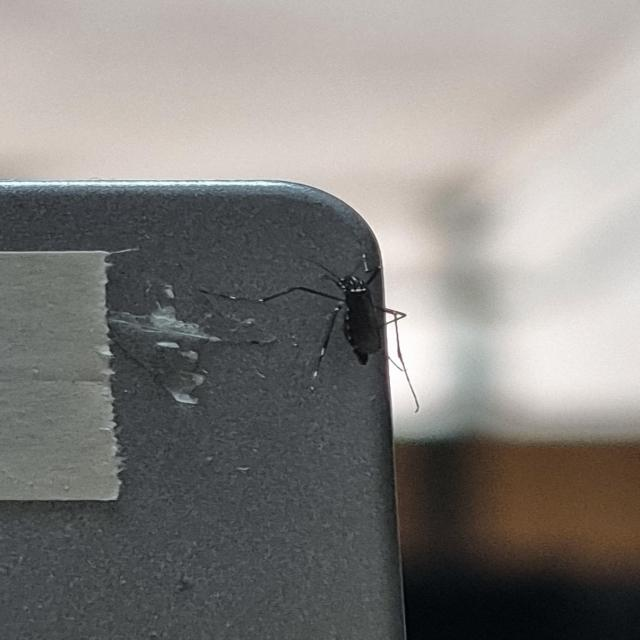albopictus: (209, 236, 415, 404)
